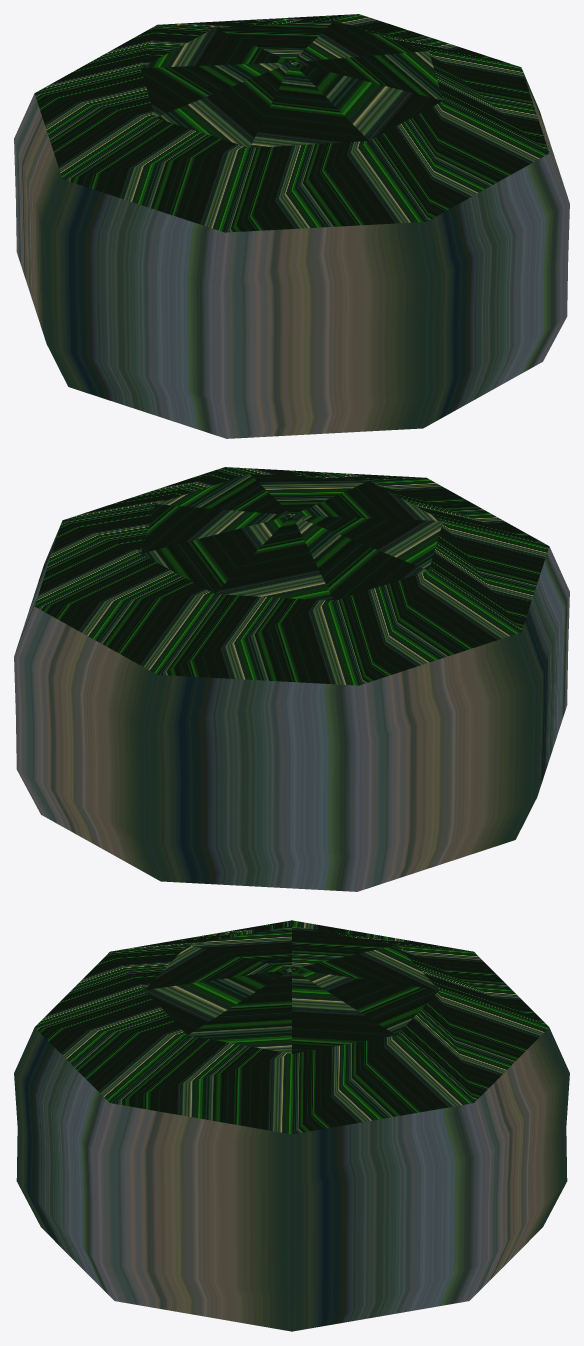
Rendered from Skydome.obj.
The picture shows the model from 3 angles, top to bottom: view 1: azimuth 30°, elevation 25°; view 2: azimuth 150°, elevation 25°; view 3: azimuth 270°, elevation 25°; orthographic projection. The views are drawn at different scales.
Size of the model in its own units: 9606 by 5261 by 9764.
Materials: 2 (2 with a texture image).
